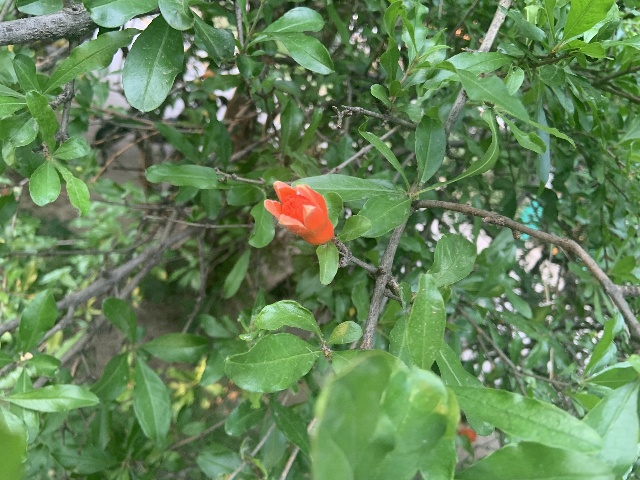flower: (263, 180, 334, 244)
